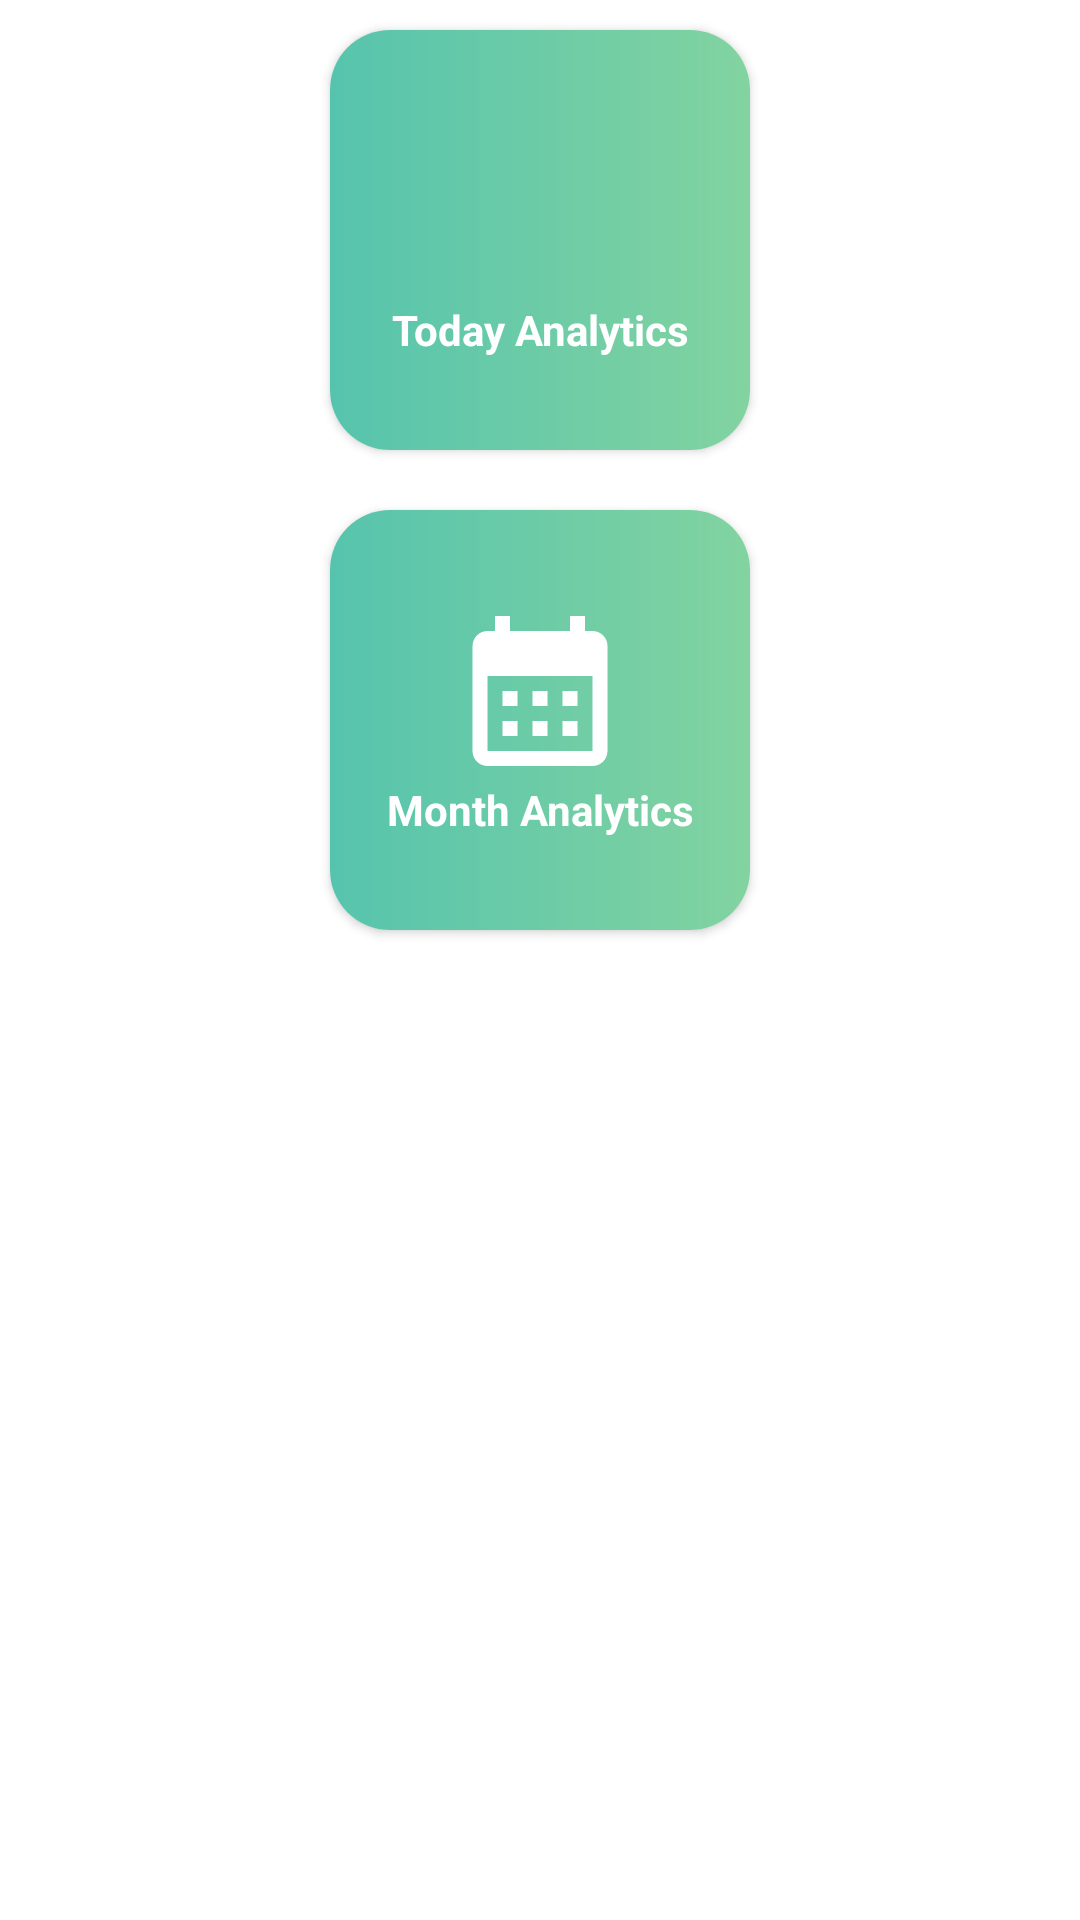

Screen size 1080px×1920px. Icon name, then its center in pixels as (x,y):
calendar month: (540,691)
